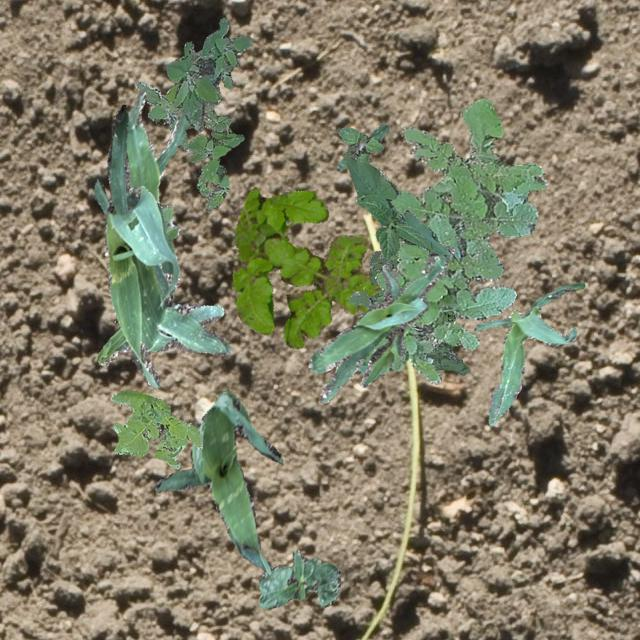crop: (96, 104, 228, 388), (153, 390, 281, 574), (307, 243, 453, 401), (474, 282, 584, 424), (92, 89, 186, 238), (342, 152, 449, 258), (258, 550, 338, 608)
weed: (357, 96, 546, 384), (232, 188, 380, 348), (348, 252, 468, 374), (165, 16, 252, 130), (110, 388, 202, 468), (185, 102, 242, 210), (134, 80, 188, 150), (336, 122, 388, 170), (368, 250, 397, 284)
